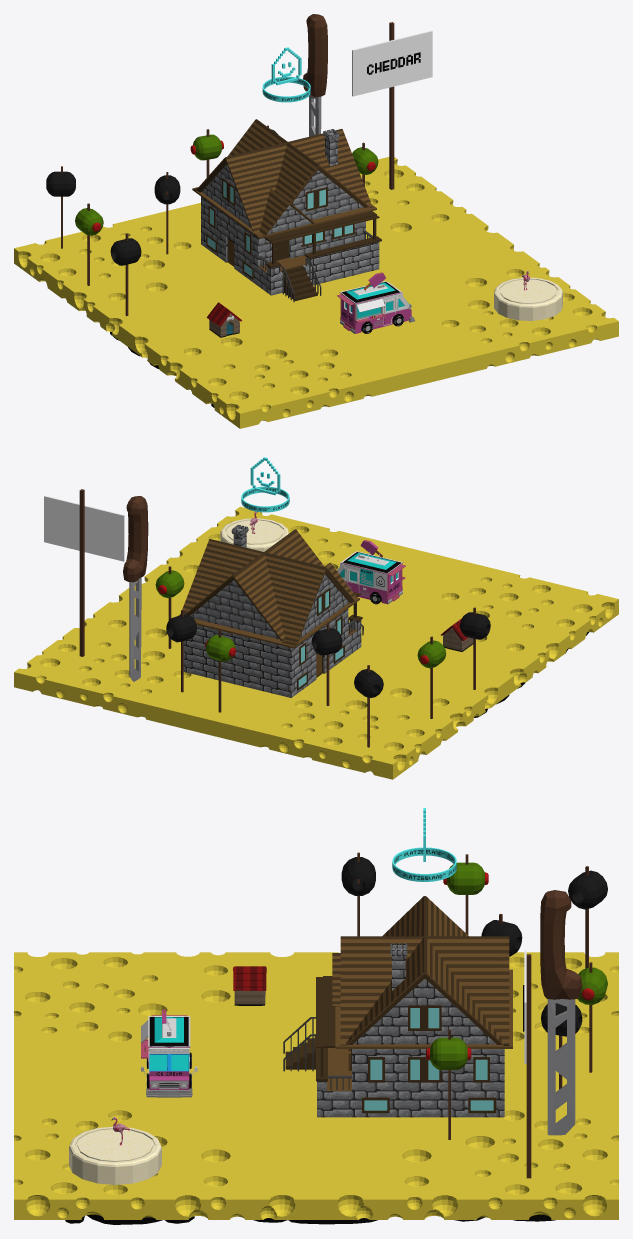
The picture shows the model from 3 angles, top to bottom: view 1: azimuth 30°, elevation 25°; view 2: azimuth 150°, elevation 25°; view 3: azimuth 270°, elevation 25°; orthographic projection. The views are drawn at different scales.
Parts seen in each view (by area): view 1: Cube.022, Cube.586, Cube.023, VEHICLES_ICE_CREAM_TRUCK, Cylinder.016, Cube.024, TYPE_PREMIUM, Sphere.017, OBJRANDOM_DOGHOUSE, Sphere.016, Sphere.020, Sphere.018 (+2 smaller); view 2: Cube.022, Cube.586, Cube.023, Cube.024, VEHICLES_ICE_CREAM_TRUCK, Cylinder.016, TYPE_PREMIUM, Sphere.020, Sphere.022, Sphere.017, Sphere.021, Sphere.016 (+3 smaller); view 3: Cube.022, Cube.586, Cube.024, Cylinder.016, VEHICLES_ICE_CREAM_TRUCK, Cube.023, Sphere.019, Sphere.016, OBJRANDOM_DOGHOUSE, Sphere.018, TYPE_PREMIUM, Sphere.017 (+4 smaller).
Part boxes in pixels (left/top/right/bottom): Cube.022: left=14, top=157, right=618, bottom=428; Cube.586: left=192, top=119, right=381, bottom=302; Cube.023: left=352, top=22, right=432, bottom=189; VEHICLES_ICE_CREAM_TRUCK: left=337, top=272, right=414, bottom=333; Cylinder.016: left=494, top=277, right=562, bottom=320; Cube.024: left=303, top=14, right=327, bottom=136; TYPE_PREMIUM: left=262, top=47, right=310, bottom=102; Sphere.017: left=110, top=233, right=141, bottom=316; OBJRANDOM_DOGHOUSE: left=207, top=302, right=241, bottom=337; Sphere.016: left=46, top=166, right=75, bottom=248; Sphere.020: left=154, top=172, right=180, bottom=254; Sphere.018: left=75, top=203, right=103, bottom=285; Cube.022: left=14, top=506, right=618, bottom=779; Cube.586: left=178, top=524, right=363, bottom=697; Cube.023: left=44, top=489, right=124, bottom=656; Cube.024: left=123, top=496, right=148, bottom=681; VEHICLES_ICE_CREAM_TRUCK: left=337, top=540, right=405, bottom=604; Cylinder.016: left=220, top=518, right=288, bottom=551; TYPE_PREMIUM: left=241, top=457, right=289, bottom=512; Sphere.020: left=311, top=623, right=342, bottom=705; Sphere.022: left=205, top=630, right=235, bottom=712; Sphere.017: left=460, top=607, right=490, bottom=689; Sphere.021: left=166, top=610, right=196, bottom=692; Sphere.016: left=354, top=665, right=383, bottom=747; Cube.022: left=14, top=952, right=618, bottom=1219; Cube.586: left=283, top=896, right=512, bottom=1117; Cube.024: left=540, top=890, right=582, bottom=1135; Cylinder.016: left=69, top=1126, right=161, bottom=1184; VEHICLES_ICE_CREAM_TRUCK: left=141, top=1009, right=197, bottom=1097; Cube.023: left=523, top=950, right=531, bottom=1178; Sphere.019: left=426, top=1029, right=471, bottom=1139; Sphere.016: left=568, top=866, right=607, bottom=968; OBJRANDOM_DOGHOUSE: left=233, top=966, right=266, bottom=1005; Sphere.018: left=443, top=854, right=488, bottom=934; TYPE_PREMIUM: left=392, top=808, right=456, bottom=881; Sphere.017: left=341, top=852, right=375, bottom=936.
Size of the model in its own units: 3917 by 2197 by 4000.
46 materials, 5 textured.
